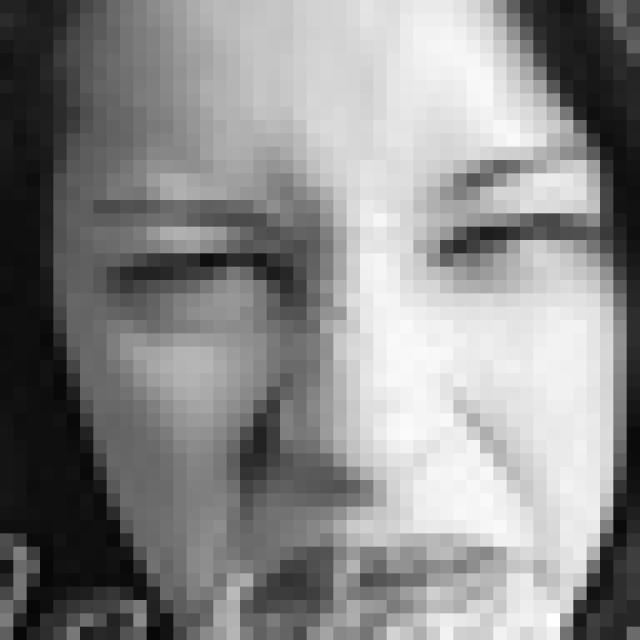disgust: (95, 141, 606, 629)
